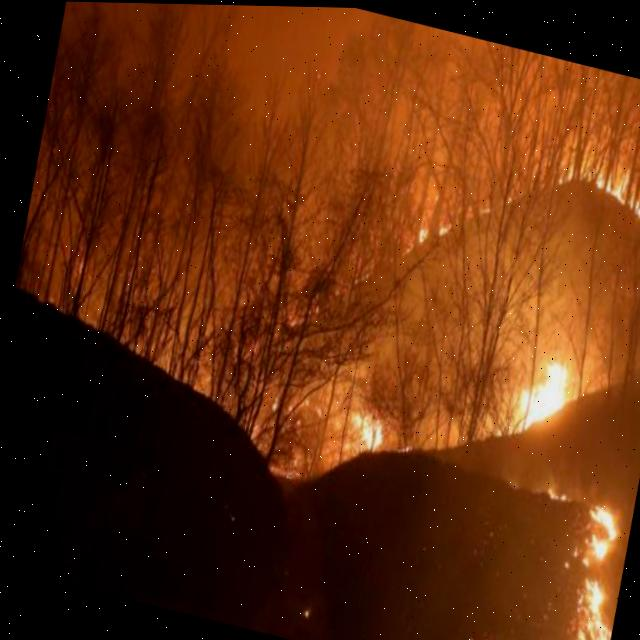fire: (555, 506, 626, 640), (514, 363, 570, 432)
smoke: (22, 1, 640, 379)
